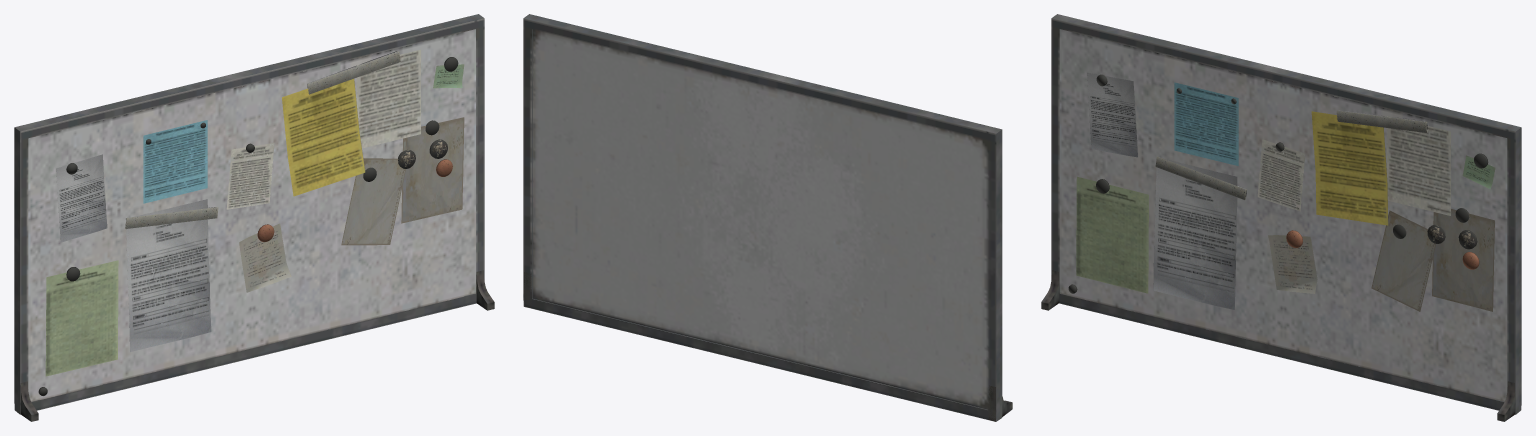
Rendered from 016_chesshints01a.fbx.
The picture shows the model from 3 angles, left to right: view 1: azimuth 30°, elevation 25°; view 2: azimuth 150°, elevation 25°; view 3: azimuth 330°, elevation 25°; orthographic projection.
Parts seen in each view (by area): view 1: LOD_1_Group_0_Sub_1__sm30_136_CorkBoard02A_A_Mat, LOD_1_Group_0_Sub_4__sm36_049_Paper01A_A_Mat, LOD_1_Group_0_Sub_2__sm30_061_WhiteBoard02A_A_Mat, LOD_1_Group_0_Sub_6__sm74_011_Report01A_A_Mat__Env_default, LOD_1_Group_0_Sub_5__sm36_011_Document01A_A_Mat, LOD_1_Group_0_Sub_3__sm36_012_PaperMagnet01A_A_Mat; view 2: LOD_1_Group_0_Sub_2__sm30_061_WhiteBoard02A_A_Mat; view 3: LOD_1_Group_0_Sub_1__sm30_136_CorkBoard02A_A_Mat, LOD_1_Group_0_Sub_4__sm36_049_Paper01A_A_Mat, LOD_1_Group_0_Sub_2__sm30_061_WhiteBoard02A_A_Mat, LOD_1_Group_0_Sub_6__sm74_011_Report01A_A_Mat__Env_default, LOD_1_Group_0_Sub_5__sm36_011_Document01A_A_Mat, LOD_1_Group_0_Sub_3__sm36_012_PaperMagnet01A_A_Mat.
Part boxes in pixels (x1,y1,x2,y2): LOD_1_Group_0_Sub_1__sm30_136_CorkBoard02A_A_Mat: (28,29,475,401); LOD_1_Group_0_Sub_4__sm36_049_Paper01A_A_Mat: (45,49,420,376); LOD_1_Group_0_Sub_2__sm30_061_WhiteBoard02A_A_Mat: (14,14,494,421); LOD_1_Group_0_Sub_6__sm74_011_Report01A_A_Mat__Env_default: (56,154,211,351); LOD_1_Group_0_Sub_5__sm36_011_Document01A_A_Mat: (341,117,464,245); LOD_1_Group_0_Sub_3__sm36_012_PaperMagnet01A_A_Mat: (38,51,464,395); LOD_1_Group_0_Sub_2__sm30_061_WhiteBoard02A_A_Mat: (523,14,1012,421); LOD_1_Group_0_Sub_1__sm30_136_CorkBoard02A_A_Mat: (1059,29,1507,401); LOD_1_Group_0_Sub_4__sm36_049_Paper01A_A_Mat: (1076,82,1450,293); LOD_1_Group_0_Sub_2__sm30_061_WhiteBoard02A_A_Mat: (1041,14,1521,421); LOD_1_Group_0_Sub_6__sm74_011_Report01A_A_Mat__Env_default: (1087,73,1237,309); LOD_1_Group_0_Sub_5__sm36_011_Document01A_A_Mat: (1371,209,1494,311); LOD_1_Group_0_Sub_3__sm36_012_PaperMagnet01A_A_Mat: (1068,74,1495,293).
Bounding box in the file's own units: 1.7 × 0.9899 × 0.1044.
